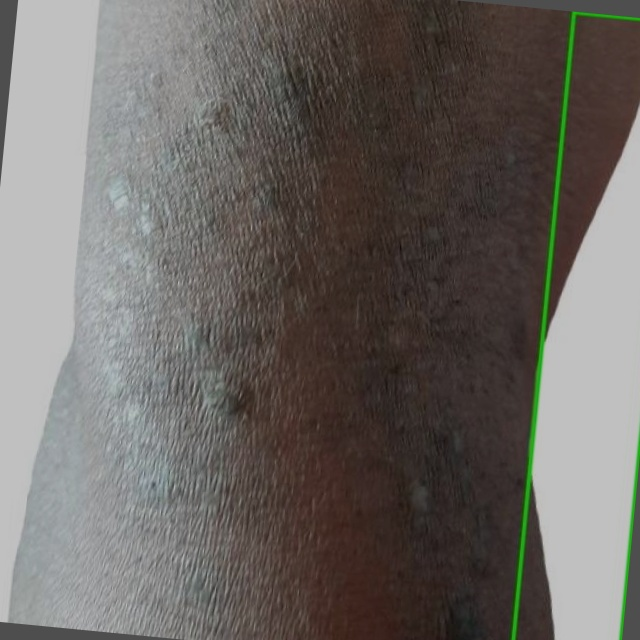Contact Dermatitis: (513, 12, 639, 639)
